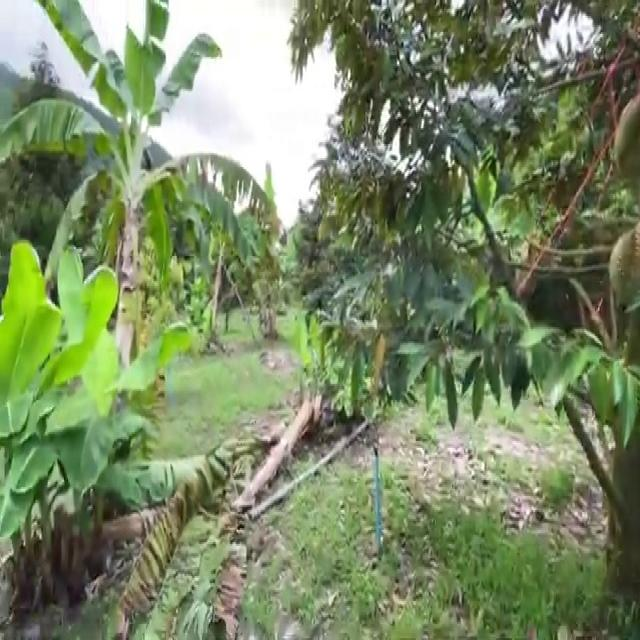durian: (605, 224, 639, 316), (611, 91, 639, 190)
